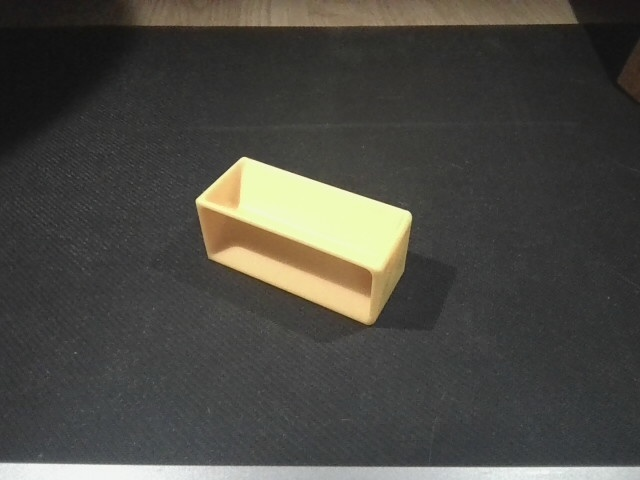YellowSample: (190, 150, 417, 331)
